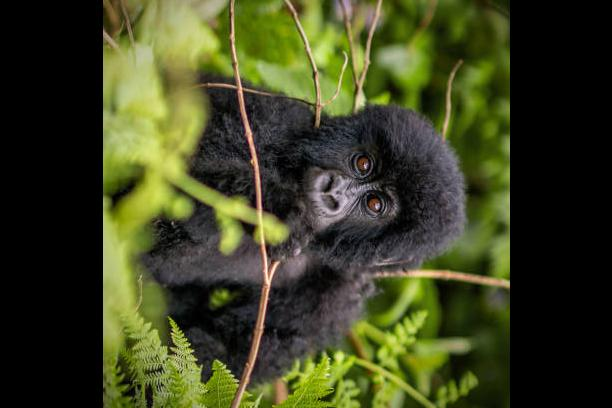goriile_montagne: (167, 94, 466, 372)
